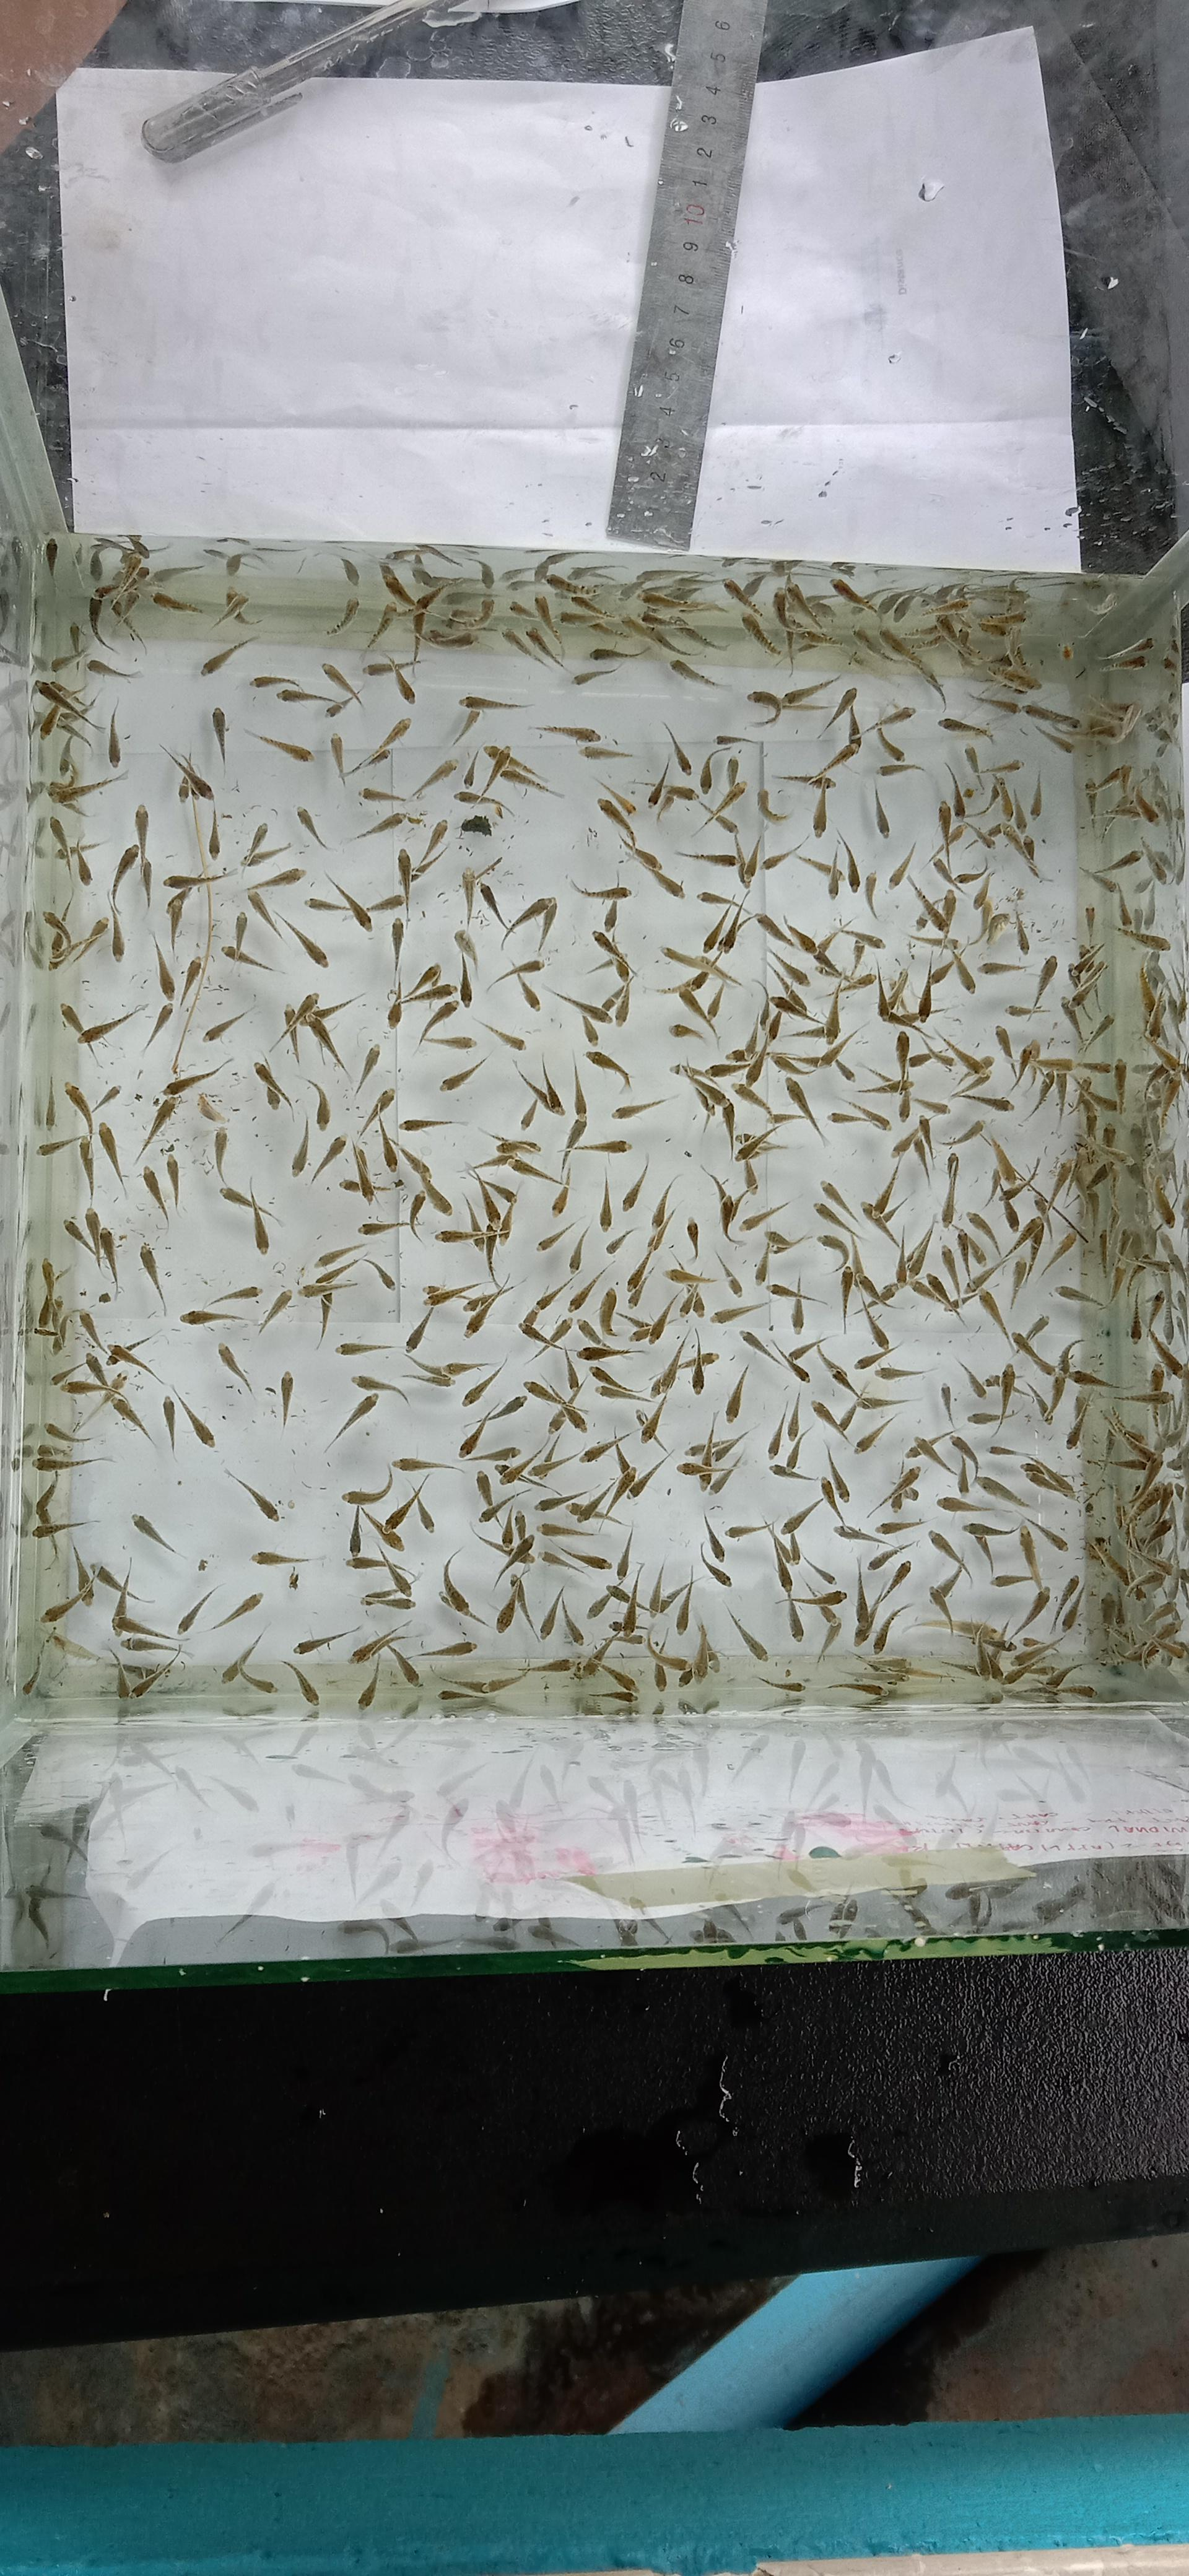fingerling: (598, 798, 683, 899), (435, 1189, 514, 1278), (503, 624, 617, 685), (279, 991, 365, 1071), (245, 889, 328, 968), (1025, 698, 1141, 752), (677, 1423, 754, 1493), (57, 1000, 141, 1065), (877, 626, 944, 703), (62, 1209, 122, 1295), (473, 1508, 537, 1587), (379, 563, 443, 639), (747, 675, 839, 726), (657, 971, 721, 1043), (218, 1178, 279, 1253), (393, 1140, 452, 1216), (458, 1393, 526, 1459), (34, 677, 99, 746), (774, 738, 862, 787), (483, 744, 565, 797), (448, 693, 530, 746), (41, 908, 108, 971), (695, 1160, 744, 1244), (48, 816, 108, 884), (542, 982, 629, 1027), (353, 715, 412, 777), (438, 1549, 484, 1628), (739, 1329, 808, 1382), (660, 945, 742, 987), (783, 920, 842, 979), (522, 1378, 586, 1431), (370, 1482, 420, 1548), (498, 1433, 558, 1487), (48, 770, 126, 812), (463, 1278, 517, 1337), (324, 1393, 378, 1452), (220, 912, 274, 971), (466, 1132, 539, 1175), (691, 780, 746, 836), (161, 743, 213, 800), (360, 1559, 419, 1610), (673, 1061, 728, 1115), (223, 1469, 279, 1521), (501, 895, 557, 948), (627, 844, 683, 897), (419, 997, 475, 1050), (64, 1079, 122, 1130), (136, 1094, 181, 1160), (501, 624, 562, 672), (780, 1079, 826, 1142), (491, 958, 547, 1009), (780, 580, 836, 631), (624, 613, 688, 657), (460, 854, 503, 920), (161, 1056, 232, 1096), (514, 1060, 563, 1115), (279, 912, 328, 968), (325, 872, 373, 930), (435, 1669, 527, 1699), (535, 1221, 588, 1272), (984, 646, 1040, 692), (220, 1630, 266, 1686), (366, 654, 419, 701), (624, 1447, 672, 1500), (176, 1584, 225, 1633), (240, 823, 292, 869), (910, 881, 956, 933), (1086, 700, 1141, 743), (350, 808, 422, 841), (590, 928, 634, 981), (115, 1663, 176, 1700), (245, 729, 314, 762), (176, 1391, 215, 1449), (1021, 1457, 1074, 1500), (200, 636, 256, 675), (591, 1365, 652, 1401), (460, 1359, 506, 1406), (108, 1391, 153, 1441), (726, 1610, 769, 1661), (34, 678, 92, 716), (348, 1626, 404, 1664), (105, 1336, 156, 1377), (539, 1544, 609, 1574), (493, 1577, 529, 1635), (210, 1592, 263, 1631), (138, 1242, 166, 1316), (532, 593, 565, 655), (41, 1587, 95, 1625), (131, 1513, 179, 1556), (583, 1048, 631, 1091), (438, 1053, 489, 1092), (253, 1058, 292, 1109), (309, 1134, 348, 1184), (598, 797, 637, 848), (819, 687, 857, 739), (519, 1314, 572, 1352), (796, 853, 841, 897), (320, 660, 363, 706), (411, 757, 458, 798), (453, 928, 478, 1007), (342, 1469, 393, 1506), (358, 1086, 396, 1137), (732, 1127, 785, 1163), (294, 1626, 358, 1656), (1095, 636, 1153, 669), (108, 843, 141, 900), (580, 1431, 634, 1465), (361, 601, 399, 651), (282, 1659, 320, 1709), (245, 889, 282, 938), (97, 1122, 126, 1184), (769, 987, 819, 1023), (278, 687, 343, 715), (737, 609, 778, 654), (399, 963, 445, 1002), (831, 577, 879, 614), (668, 657, 726, 688), (351, 1042, 383, 1099), (202, 1007, 251, 1043), (217, 1344, 253, 1393), (783, 675, 838, 708), (350, 1373, 409, 1403), (256, 1288, 294, 1334), (33, 1451, 113, 1472), (818, 736, 862, 774), (417, 820, 450, 871), (379, 563, 415, 609), (448, 595, 496, 629), (662, 721, 693, 774), (401, 1355, 453, 1387), (537, 1587, 568, 1640), (677, 844, 739, 871), (854, 1416, 895, 1456), (811, 1400, 852, 1439), (1023, 701, 1081, 729), (759, 838, 806, 871), (619, 1155, 647, 1211), (829, 1104, 888, 1130), (596, 777, 637, 815), (163, 867, 230, 890), (386, 1643, 422, 1686), (67, 1308, 103, 1350), (141, 1002, 172, 1051), (723, 575, 767, 609), (141, 1165, 169, 1219), (869, 701, 915, 734), (420, 1281, 478, 1308), (452, 789, 509, 815), (478, 1019, 526, 1050), (302, 1076, 330, 1129), (246, 866, 305, 890), (251, 1549, 325, 1569), (92, 1559, 131, 1595), (314, 1242, 365, 1270), (836, 833, 861, 890), (723, 1364, 747, 1421), (887, 841, 916, 889), (294, 805, 327, 848), (404, 1306, 435, 1350), (222, 945, 274, 971), (941, 1117, 987, 1147), (149, 590, 204, 614), (938, 715, 992, 739), (1115, 927, 1169, 951), (570, 879, 632, 900), (711, 1301, 769, 1324), (458, 692, 530, 710), (755, 787, 792, 823), (217, 588, 251, 626), (448, 708, 483, 746), (181, 1308, 246, 1327), (85, 657, 141, 680), (1030, 724, 1076, 752), (747, 688, 782, 724), (327, 596, 360, 634), (537, 723, 599, 743), (414, 1640, 476, 1659), (613, 1097, 670, 1119), (834, 1521, 887, 1544), (361, 1589, 414, 1612), (391, 1457, 463, 1474), (424, 624, 475, 647), (274, 1370, 294, 1426), (420, 1033, 476, 1053), (105, 705, 123, 766), (570, 1137, 629, 1155), (197, 1092, 230, 1124), (210, 706, 228, 762), (665, 1267, 716, 1286), (238, 1667, 276, 1694), (757, 1674, 803, 1695), (328, 733, 348, 782), (212, 1285, 261, 1304), (590, 642, 647, 659), (360, 785, 407, 805), (399, 1117, 461, 1132), (335, 1341, 394, 1355), (581, 743, 634, 759), (251, 674, 301, 690), (458, 815, 494, 835), (338, 555, 360, 585)
